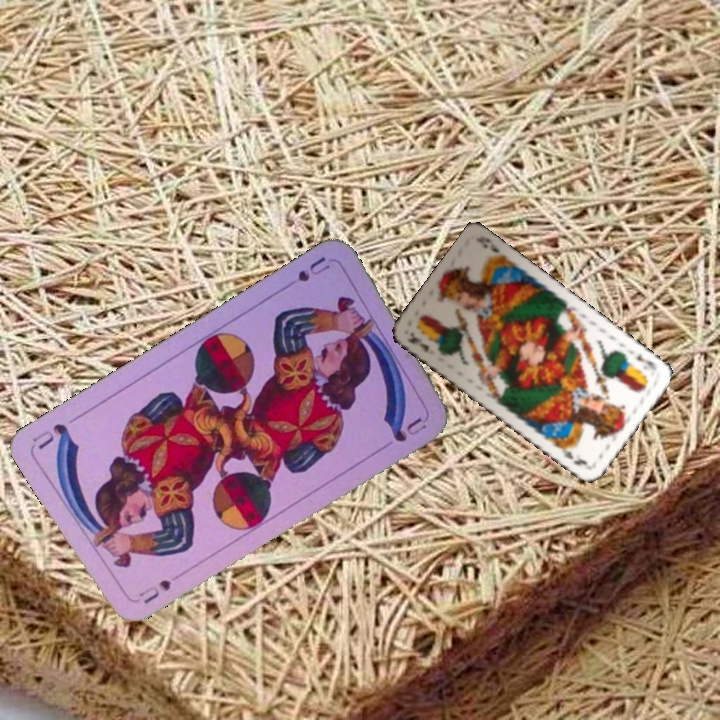EK: (403, 328, 432, 356), (632, 349, 660, 373)
SU: (278, 253, 333, 293), (129, 575, 174, 607)
